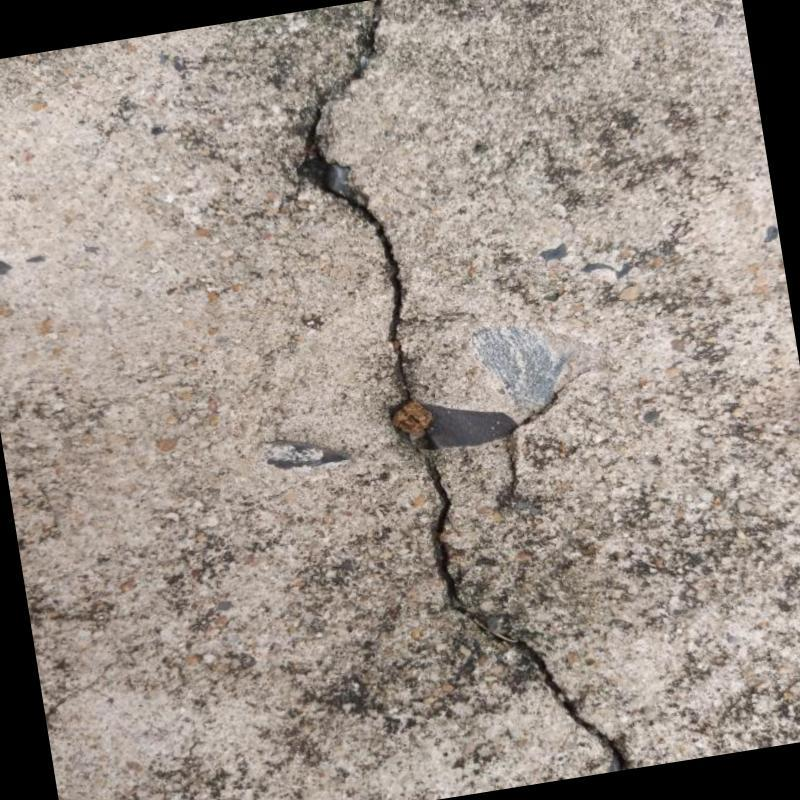pothole: (297, 0, 630, 769)
